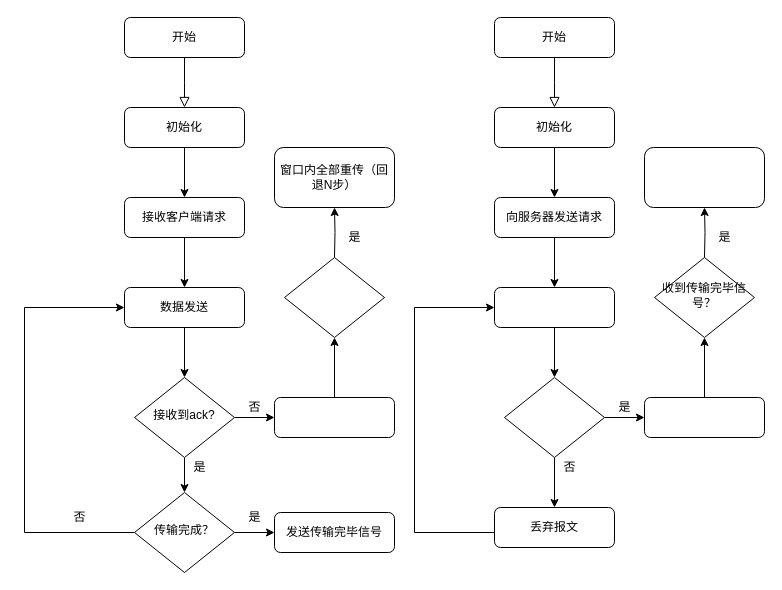
This 782x590 diagram has some shape labels left out. The shapes that lost their labels are listed below. From the top down, each one's centre as x and y in pixels, then its label:
the point at 704,177: 完成
the point at 334,297: 超时？
the point at 554,307: 数据接收
the point at 334,417: 维护计时器
the point at 554,417: 是请求的数据报文？
the point at 704,417: 发送ack
